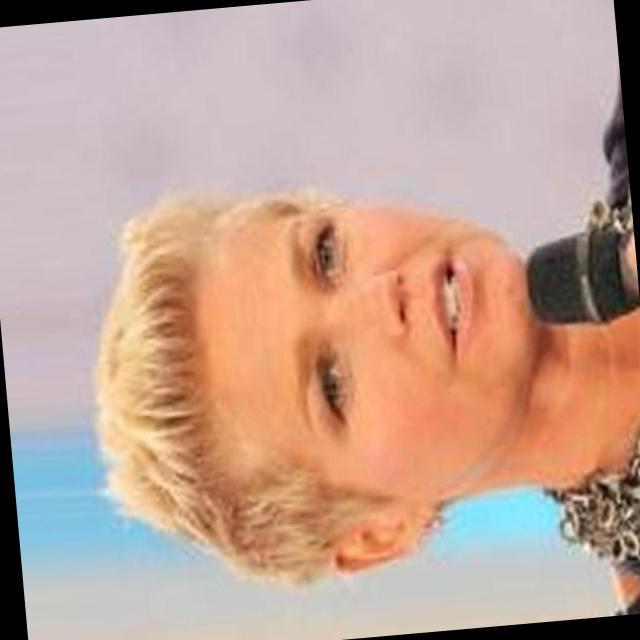bareface: (117, 182, 547, 574)
